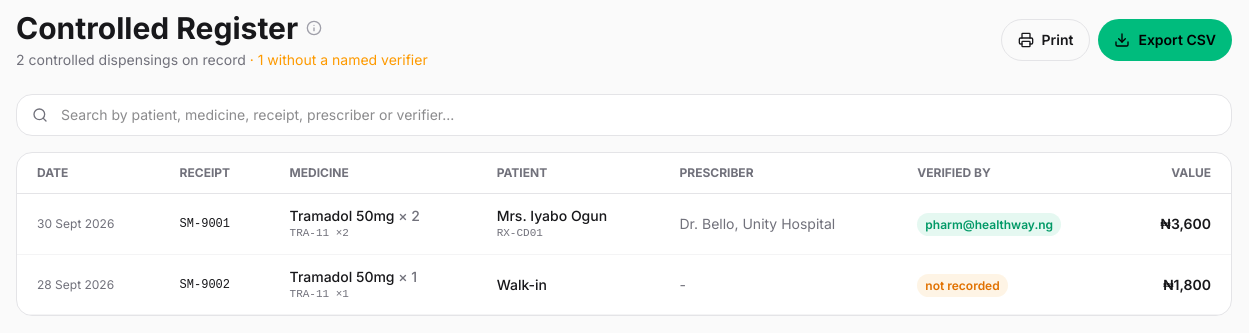
Controlled Register page › lists controlled dispensings with patient, verifier and batches
Expected: the text "SM-9001" is shown, [160,194,270,254]
Expected: the text "SM-9002" is shown, [160,254,270,315]
Note: Search narrows to a patient.
Type "Iyabo" into the field named "Search controlled register" at point(624, 115), box [16,94,1232,136]
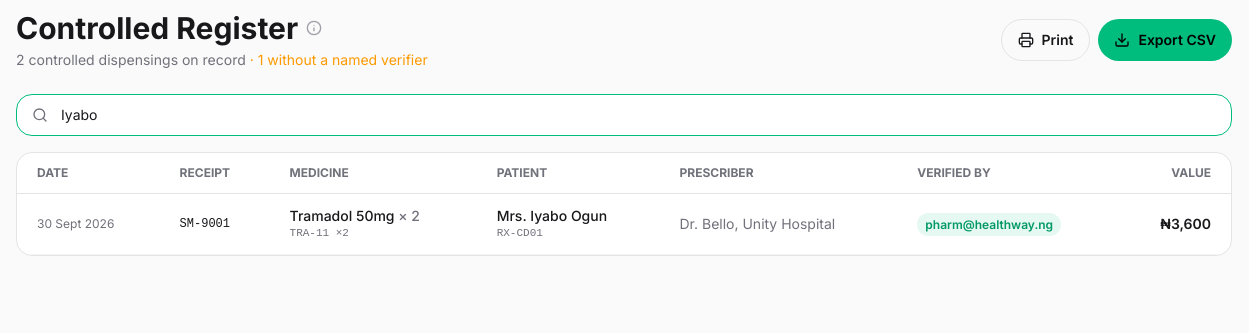
Expected: the text "SM-9001" is shown, [160,194,270,254]
Expected: the text "SM-9002" is gone
